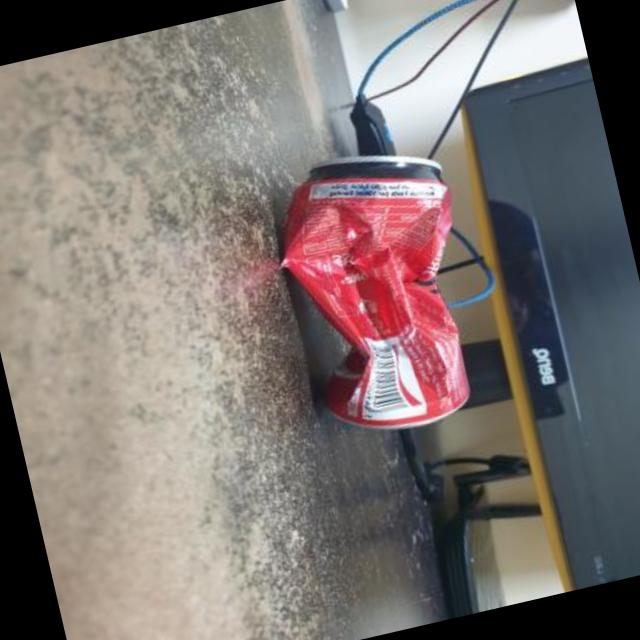metal: (284, 158, 470, 430)
